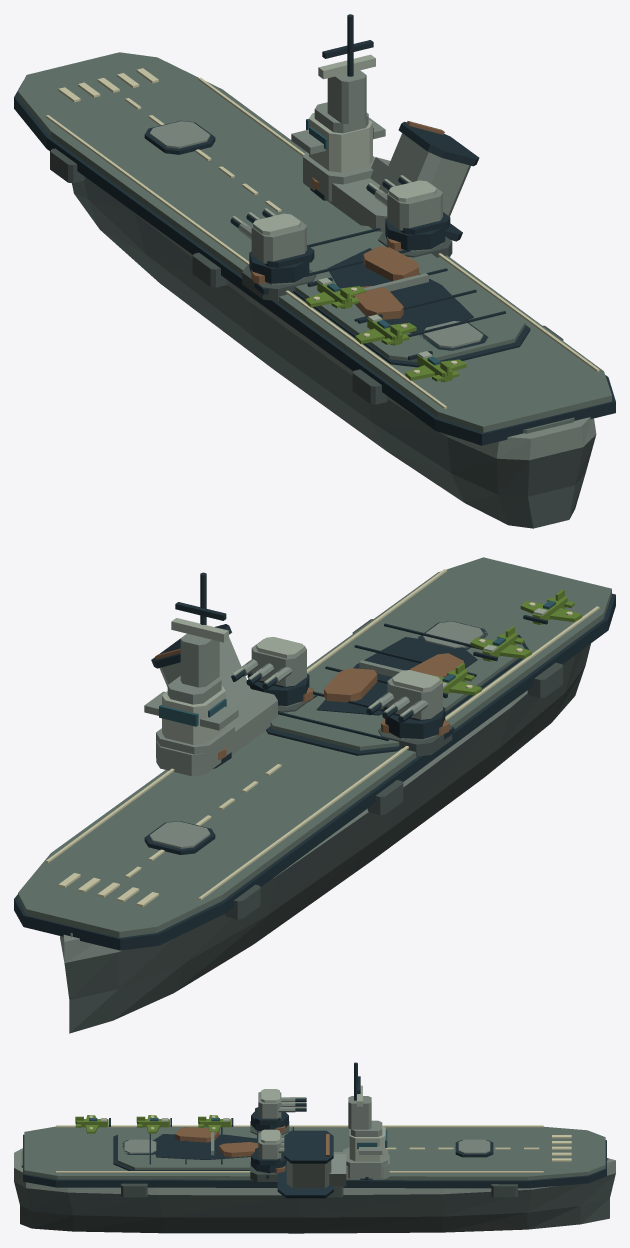
The model's file is historic-shinano.glb.
3 views of the same model, one above another, from view 1: azimuth 30°, elevation 25°; view 2: azimuth 150°, elevation 25°; view 3: azimuth 270°, elevation 25° (orthographic). The views are drawn at different scales.
Visible parts, largest first — view 1: historic-shinano-historic-shinano-geometry, historic-shinano-part_flight-deck.010-geometry, historic-shinano-part_bridge.030-geometry, historic-shinano-ruin_flight-deck.009-geometry, historic-shinano-outward-canted-uptake-geometry, historic-shinano-turret_aa_aa-port.032-geometry, historic-shinano-turret_aa_aa-starboard.030-geometry, historic-shinano-historic_funnel_0.031-geometry, historic-shinano-aircraft_lift_0.010-geometry, historic-shinano-aircraft_lift_1.010-geometry, historic-shinano-parked_aircraft_1.010-geometry, historic-shinano-parked_aircraft_0.010-geometry (+2 smaller); view 2: historic-shinano-historic-shinano-geometry, historic-shinano-part_flight-deck.010-geometry, historic-shinano-part_bridge.030-geometry, historic-shinano-ruin_flight-deck.009-geometry, historic-shinano-turret_aa_aa-port.032-geometry, historic-shinano-turret_aa_aa-starboard.030-geometry, historic-shinano-historic_funnel_0.031-geometry, historic-shinano-outward-canted-uptake-geometry, historic-shinano-aircraft_lift_0.010-geometry, historic-shinano-parked_aircraft_0.010-geometry, historic-shinano-parked_aircraft_1.010-geometry, historic-shinano-aircraft_lift_1.010-geometry (+2 smaller); view 3: historic-shinano-historic-shinano-geometry, historic-shinano-outward-canted-uptake-geometry, historic-shinano-part_flight-deck.010-geometry, historic-shinano-part_bridge.030-geometry, historic-shinano-ruin_flight-deck.009-geometry, historic-shinano-turret_aa_aa-port.032-geometry, historic-shinano-turret_aa_aa-starboard.030-geometry, historic-shinano-aircraft_lift_0.010-geometry, historic-shinano-aircraft_lift_1.010-geometry, historic-shinano-parked_aircraft_0.010-geometry, historic-shinano-parked_aircraft_1.010-geometry, historic-shinano-parked_aircraft_2.010-geometry (+1 smaller).
Boxes of the visible parts, x1=… form: historic-shinano-historic-shinano-geometry: x1=14, y1=52, x2=615, y2=528; historic-shinano-part_flight-deck.010-geometry: x1=293, y1=225, x2=530, y2=367; historic-shinano-part_bridge.030-geometry: x1=291, y1=14, x2=385, y2=201; historic-shinano-ruin_flight-deck.009-geometry: x1=327, y1=246, x2=473, y2=333; historic-shinano-outward-canted-uptake-geometry: x1=370, y1=121, x2=479, y2=241; historic-shinano-turret_aa_aa-port.032-geometry: x1=230, y1=208, x2=314, y2=283; historic-shinano-turret_aa_aa-starboard.030-geometry: x1=366, y1=175, x2=450, y2=250; historic-shinano-historic_funnel_0.031-geometry: x1=303, y1=178, x2=387, y2=232; historic-shinano-aircraft_lift_0.010-geometry: x1=144, y1=120, x2=215, y2=154; historic-shinano-aircraft_lift_1.010-geometry: x1=419, y1=321, x2=488, y2=350; historic-shinano-parked_aircraft_1.010-geometry: x1=355, y1=314, x2=416, y2=345; historic-shinano-parked_aircraft_0.010-geometry: x1=405, y1=351, x2=466, y2=382; historic-shinano-historic-shinano-geometry: x1=14, y1=557, x2=615, y2=1033; historic-shinano-part_flight-deck.010-geometry: x1=266, y1=612, x2=528, y2=755; historic-shinano-part_bridge.030-geometry: x1=144, y1=572, x2=238, y2=771; historic-shinano-ruin_flight-deck.009-geometry: x1=316, y1=637, x2=477, y2=715; historic-shinano-turret_aa_aa-port.032-geometry: x1=366, y1=670, x2=445, y2=738; historic-shinano-turret_aa_aa-starboard.030-geometry: x1=231, y1=637, x2=309, y2=705; historic-shinano-historic_funnel_0.031-geometry: x1=156, y1=689, x2=277, y2=776; historic-shinano-outward-canted-uptake-geometry: x1=151, y1=624, x2=252, y2=707; historic-shinano-aircraft_lift_0.010-geometry: x1=144, y1=821, x2=215, y2=854; historic-shinano-parked_aircraft_0.010-geometry: x1=520, y1=589, x2=581, y2=624; historic-shinano-parked_aircraft_1.010-geometry: x1=470, y1=626, x2=531, y2=661; historic-shinano-aircraft_lift_1.010-geometry: x1=418, y1=621, x2=487, y2=649; historic-shinano-historic-shinano-geometry: x1=14, y1=1125, x2=615, y2=1233; historic-shinano-outward-canted-uptake-geometry: x1=277, y1=1130, x2=346, y2=1198; historic-shinano-part_flight-deck.010-geometry: x1=113, y1=1127, x2=297, y2=1170; historic-shinano-part_bridge.030-geometry: x1=343, y1=1062, x2=387, y2=1178; historic-shinano-ruin_flight-deck.009-geometry: x1=153, y1=1127, x2=258, y2=1159; historic-shinano-turret_aa_aa-port.032-geometry: x1=251, y1=1089, x2=306, y2=1130; historic-shinano-turret_aa_aa-starboard.030-geometry: x1=251, y1=1129, x2=286, y2=1173; historic-shinano-aircraft_lift_0.010-geometry: x1=455, y1=1139, x2=493, y2=1157; historic-shinano-aircraft_lift_1.010-geometry: x1=122, y1=1139, x2=156, y2=1154; historic-shinano-parked_aircraft_0.010-geometry: x1=75, y1=1115, x2=110, y2=1133; historic-shinano-parked_aircraft_1.010-geometry: x1=136, y1=1115, x2=171, y2=1133; historic-shinano-parked_aircraft_2.010-geometry: x1=198, y1=1115, x2=233, y2=1132.
Size of the model in its own units: 1.71 by 1.92 by 5.89.
